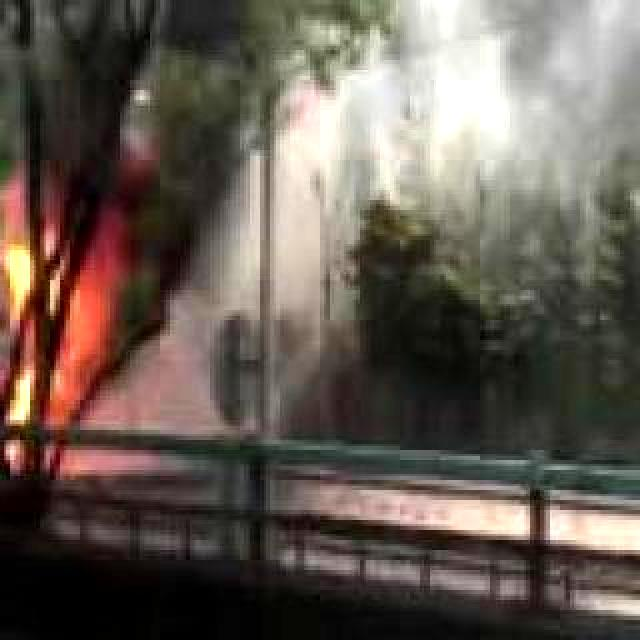fire: (0, 208, 100, 480)
